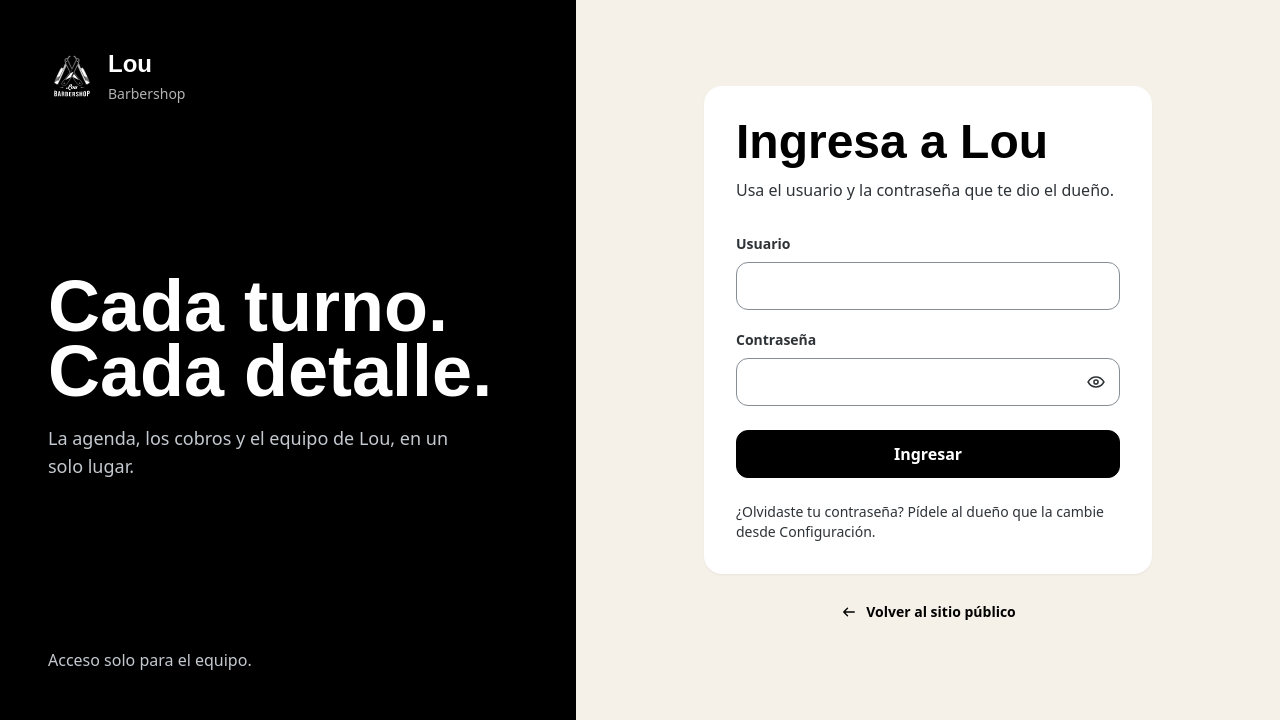
Test: LoginPage › shows and hides the password without changing its value
Type "Clave-local!8426" into the password field labelled "Contraseña".
click(928, 382); type("Clave-local!8426")  # box [736,358,1120,406]
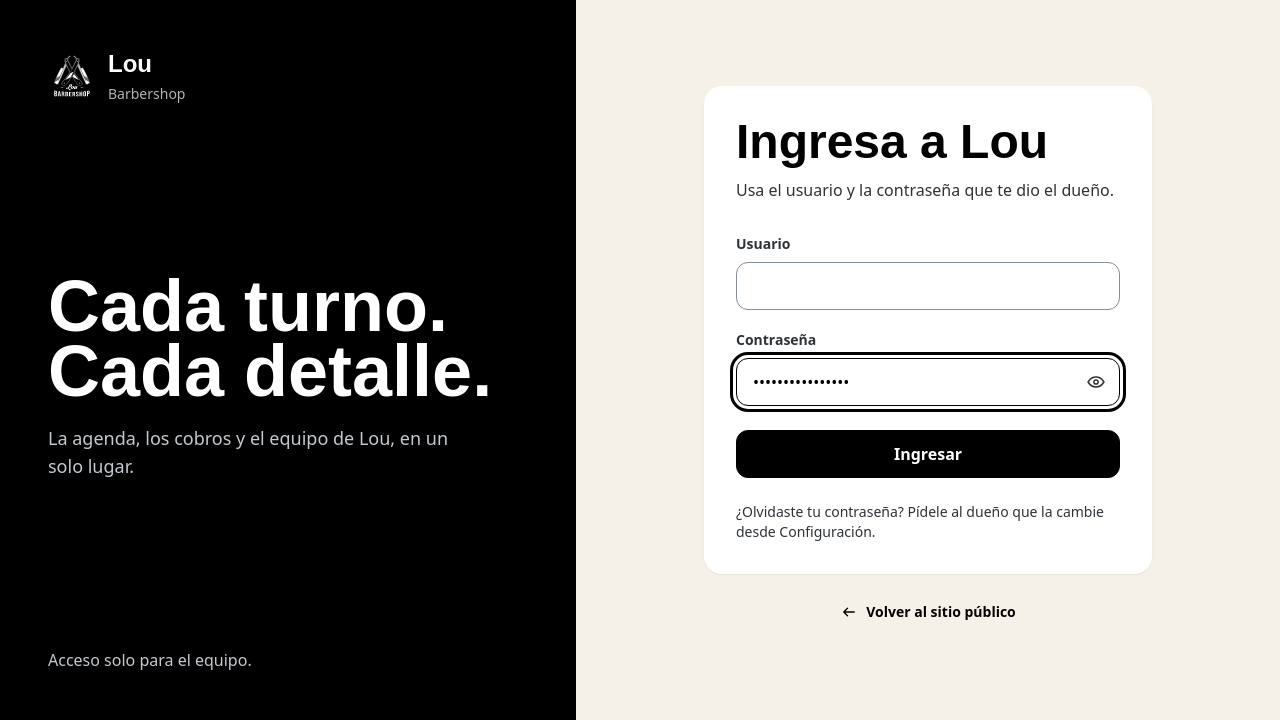
Click the button named "Mostrar contraseña".
click(1096, 382)  # box [1072,358,1120,406]
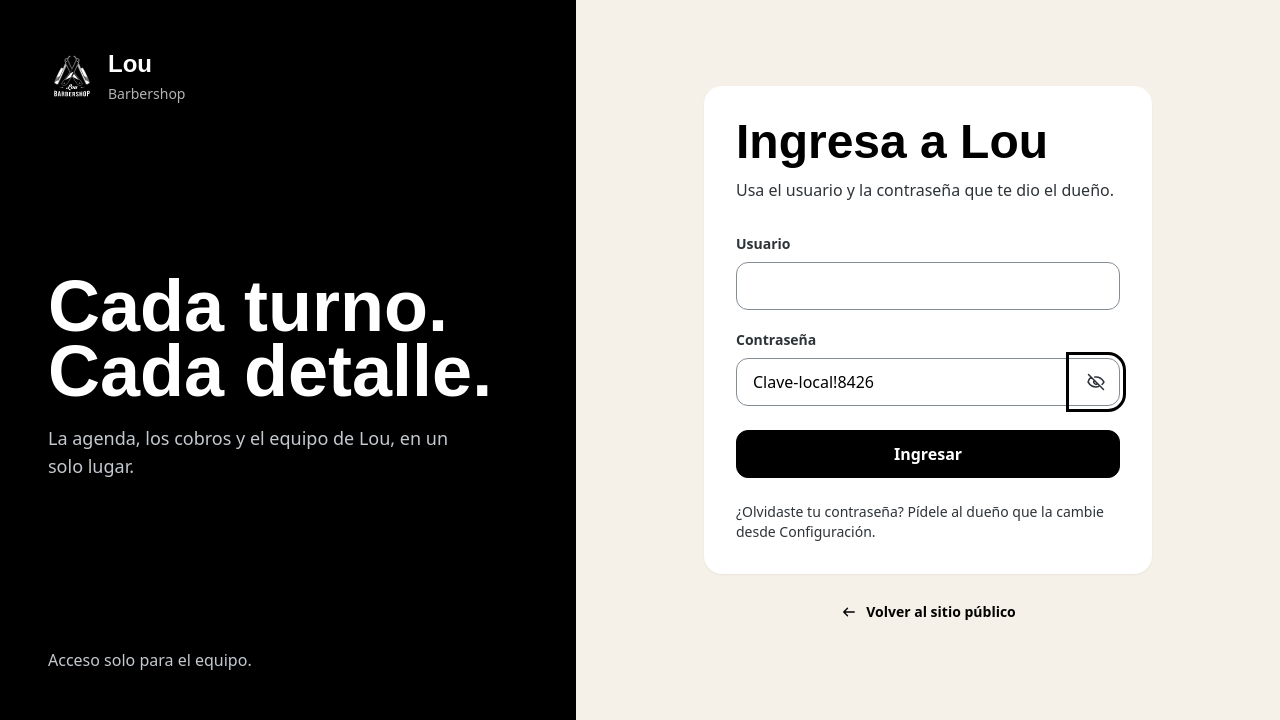
Expected: the field labelled "Contraseña" shows its text, [736,358,1120,406]
Click the button named "Ocultar contraseña".
click(1096, 382)  # box [1072,358,1120,406]
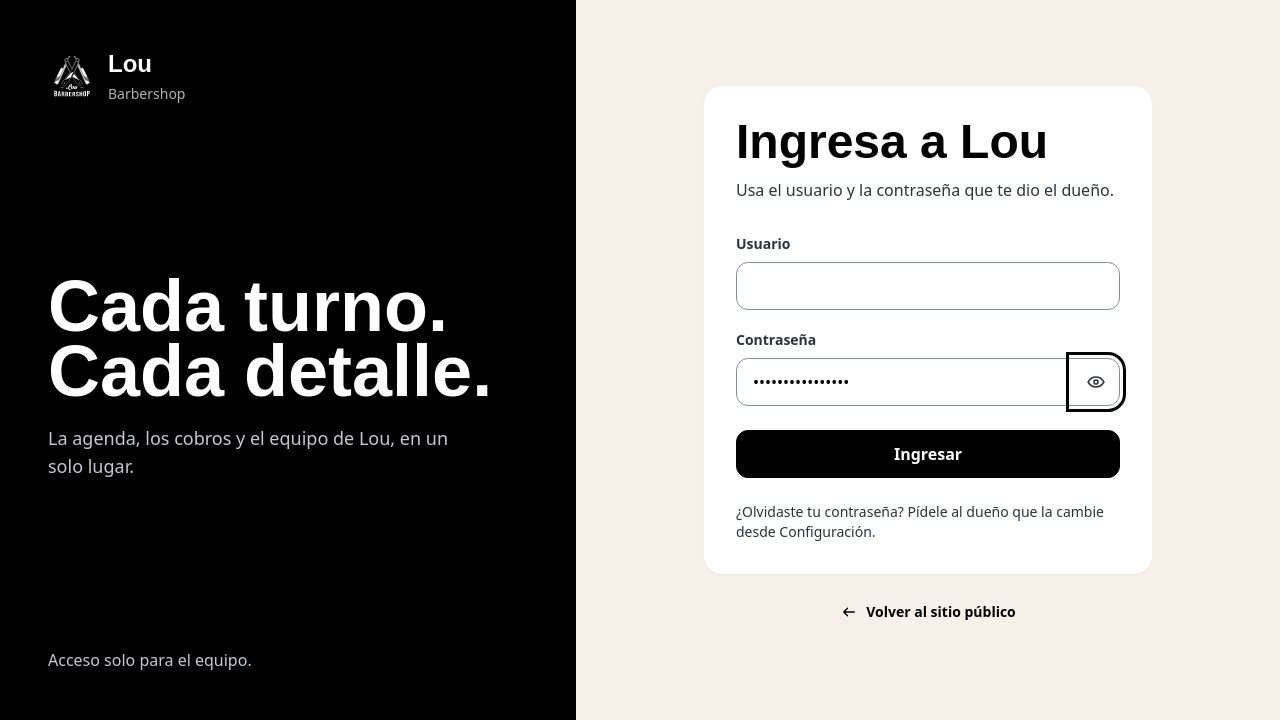
Expected: the password field labelled "Contraseña" hides its text, [736,358,1120,406]
